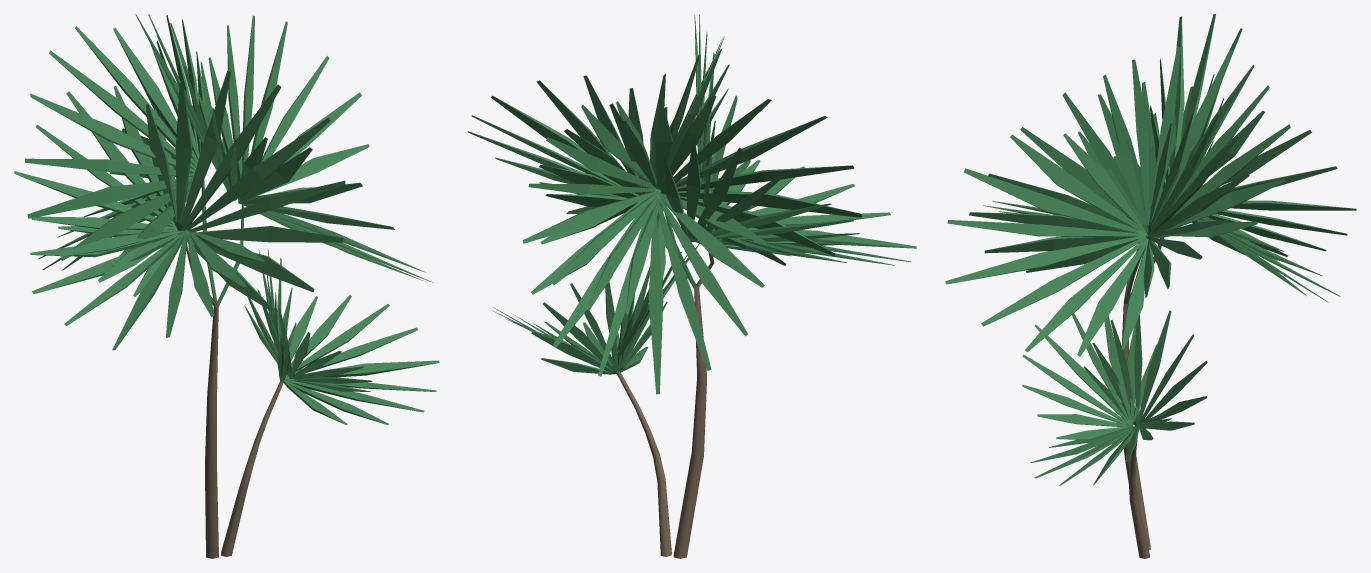
Rendered from tropical_small03.fbx.
The picture shows the model from 3 angles, left to right: view 1: azimuth 30°, elevation 25°; view 2: azimuth 150°, elevation 25°; view 3: azimuth 270°, elevation 25°; orthographic projection. The views are drawn at different scales.
Visible parts, largest first — view 1: tropical_small03; view 2: tropical_small03; view 3: tropical_small03.
Boxes of the visible parts, box(x1,y1,x2,y2) form: tropical_small03: box(14, 14, 439, 558); tropical_small03: box(468, 14, 916, 558); tropical_small03: box(945, 14, 1356, 558).
Bounding box in the file's own units: 0.1887 × 0.2359 × 0.181.
